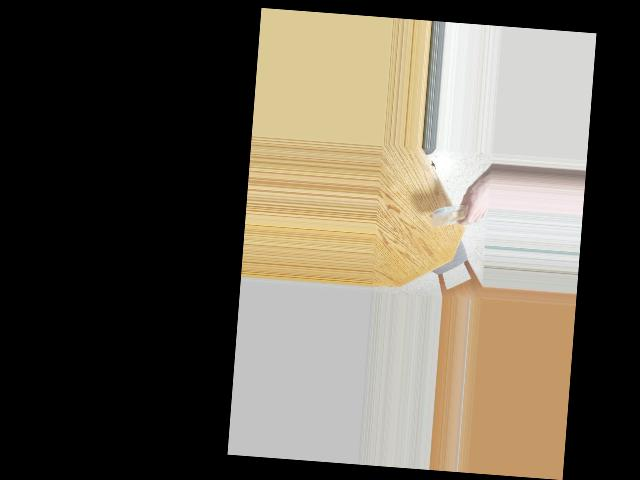cheese: (433, 196, 468, 229)
